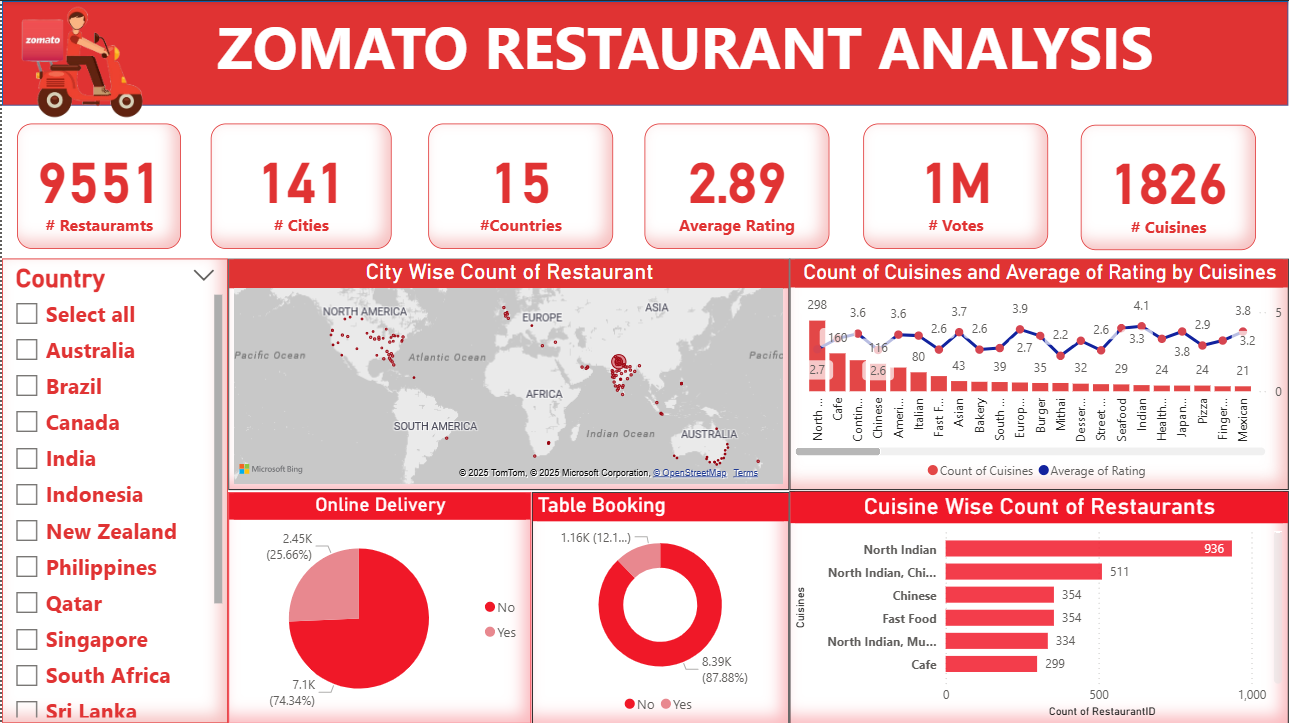

Layout of this report page (visuals, bound fields, positions):
{"tool":"powerbi","page":{"name":"Page 1","canvas":[1280,720],"ordinal":0},"visuals":[{"type":"shape","box":[0,0,1280.3,104.3],"z":0},{"type":"image","box":[0,0,159.2,122.1],"z":1000},{"type":"textbox","box":[79.6,0,1200.7,104.3],"z":2000},{"type":"card","fields":{"Values":["CountNonNull(RESTAURANT.RestaurantID)"]},"box":[15.1,122.1,163.3,124.9],"z":3000},{"type":"card","fields":{"Values":["Sum(RESTAURANT.Votes)"]},"box":[857.6,122.1,183.9,124.9],"z":4000},{"type":"card","fields":{"Values":["Avg(RESTAURANT.Rating)"]},"box":[639.5,122.1,183.9,124.9],"z":5000},{"type":"card","fields":{"Values":["Count(RESTAURANT.CountryCode)"]},"box":[424,122.1,183.9,124.9],"z":6000},{"type":"card","fields":{"Values":["Count(RESTAURANT.City)"]},"box":[207.2,122.1,179.8,124.9],"z":7000},{"type":"card","fields":{"Values":["Count(RESTAURANT.Cuisines)"]},"box":[1073.1,123.5,174.3,124.9],"z":8000},{"type":"slicer","fields":{"Values":["COUNTRY_INFO.country name"]},"box":[0,256.3,225,462.7],"z":9000},{"type":"lineStackedColumnComboChart","title":"Count of Cuisines and Average of Rating by Cuisines","fields":{"Y":["Count(RESTAURANT.Cuisines)"],"Y2":["Avg(RESTAURANT.Rating)"],"Category":["RESTAURANT.Cuisines 1"]},"box":[783.5,256.6,496.7,230.5],"z":10000},{"type":"map","title":"City Wise Count of Restaurant","fields":{"Category":["RESTAURANT.City"],"Size":["CountNonNull(RESTAURANT.RestaurantID)"]},"box":[225,256.6,558.5,230.5],"z":11000},{"type":"clusteredBarChart","title":"Cuisine Wise Count of Restaurants","fields":{"Category":["RESTAURANT.Cuisines"],"Y":["CountNonNull(RESTAURANT.RestaurantID)"]},"box":[783.5,487.1,496.5,231.9],"z":12000},{"type":"pieChart","title":"Online Delivery","fields":{"Category":["RESTAURANT.Has_Online_delivery"],"Y":["CountNonNull(RESTAURANT.RestaurantID)"]},"box":[225,488.5,301.9,230.5],"z":13000},{"type":"donutChart","title":"Table Booking","fields":{"Category":["RESTAURANT.Has_Table_booking"],"Y":["CountNonNull(RESTAURANT.RestaurantID)"]},"box":[527,489,256,231],"z":14000}]}

Visuals, with their boxes in screenshot pixels (x1, y1, x2, y2), scaled from the page's 1280x720 canvas onto the 1289x723 screenshot:
shape: 0:0:1288:105
image: 0:0:160:123
textbox: 80:0:1288:105
card - CountNonNull(RESTAURANT.RestaurantID): 15:123:180:248
card - Sum(RESTAURANT.Votes): 864:123:1049:248
card - Avg(RESTAURANT.Rating): 644:123:829:248
card - Count(RESTAURANT.CountryCode): 427:123:612:248
card - Count(RESTAURANT.City): 209:123:390:248
card - Count(RESTAURANT.Cuisines): 1081:124:1256:249
slicer - COUNTRY_INFO.country name: 0:257:227:722
"Count of Cuisines and Average of Rating by Cuisines" lineStackedColumnComboChart: 789:258:1288:489
"City Wise Count of Restaurant" map: 227:258:789:489
"Cuisine Wise Count of Restaurants" clusteredBarChart: 789:489:1288:722
"Online Delivery" pieChart: 227:491:531:722
"Table Booking" donutChart: 531:491:789:722
